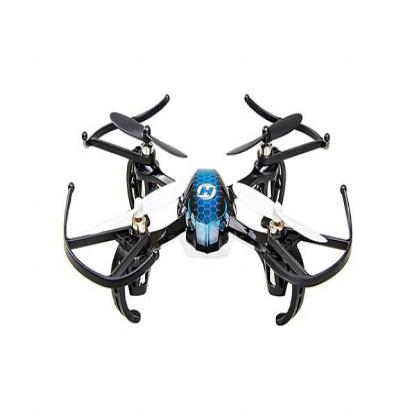drone: (50, 78, 369, 337)
